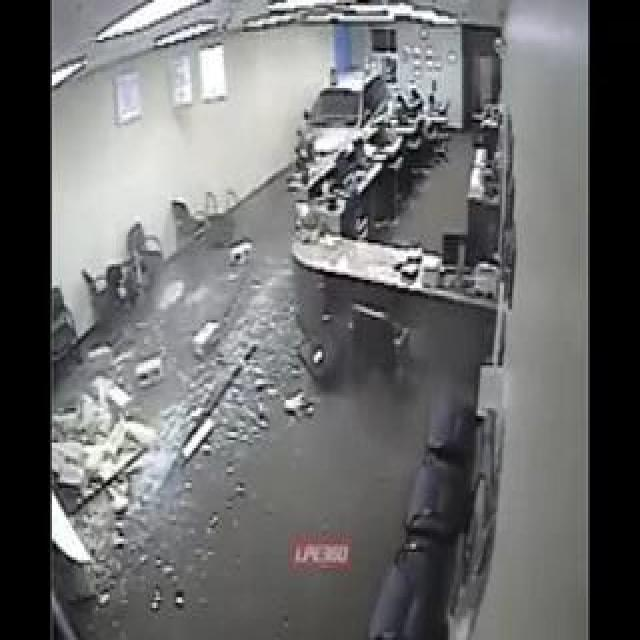burglary: (292, 61, 420, 269)
